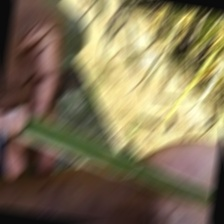Leaf_Blast: (10, 132, 142, 179)
